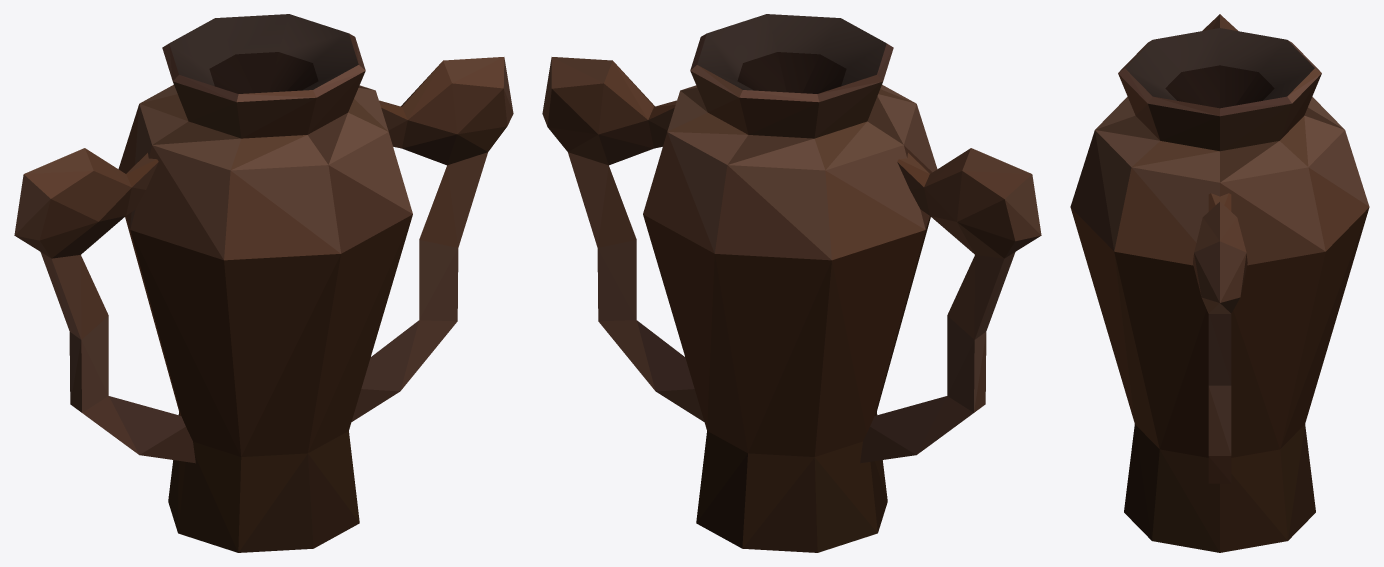
Rendered from prop_container_vase_2.fbx.
3 renders of one model, left to right at view 1: azimuth 30°, elevation 25°; view 2: azimuth 150°, elevation 25°; view 3: azimuth 270°, elevation 25°, orthographic. The views are drawn at different scales.
Visible parts, largest first — view 1: prop_container_vase_2; view 2: prop_container_vase_2; view 3: prop_container_vase_2.
Part boxes in pixels (bbox=[...]): prop_container_vase_2: bbox=[14, 14, 513, 552]; prop_container_vase_2: bbox=[542, 14, 1041, 552]; prop_container_vase_2: bbox=[1070, 14, 1369, 552].
Bounding box in the file's own units: 1.54 × 1.35 × 0.8252.
